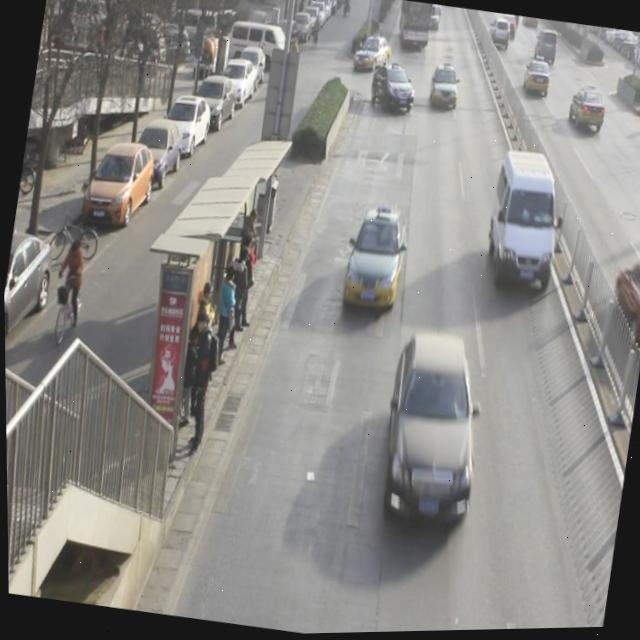car: (373, 337, 495, 530), (344, 204, 410, 310), (370, 66, 417, 118), (613, 260, 640, 348), (566, 85, 610, 137), (428, 65, 461, 110), (357, 35, 392, 77), (521, 62, 555, 100), (534, 32, 562, 64), (488, 19, 513, 52), (500, 16, 522, 46), (426, 6, 441, 33)
truck: (478, 153, 571, 300)
